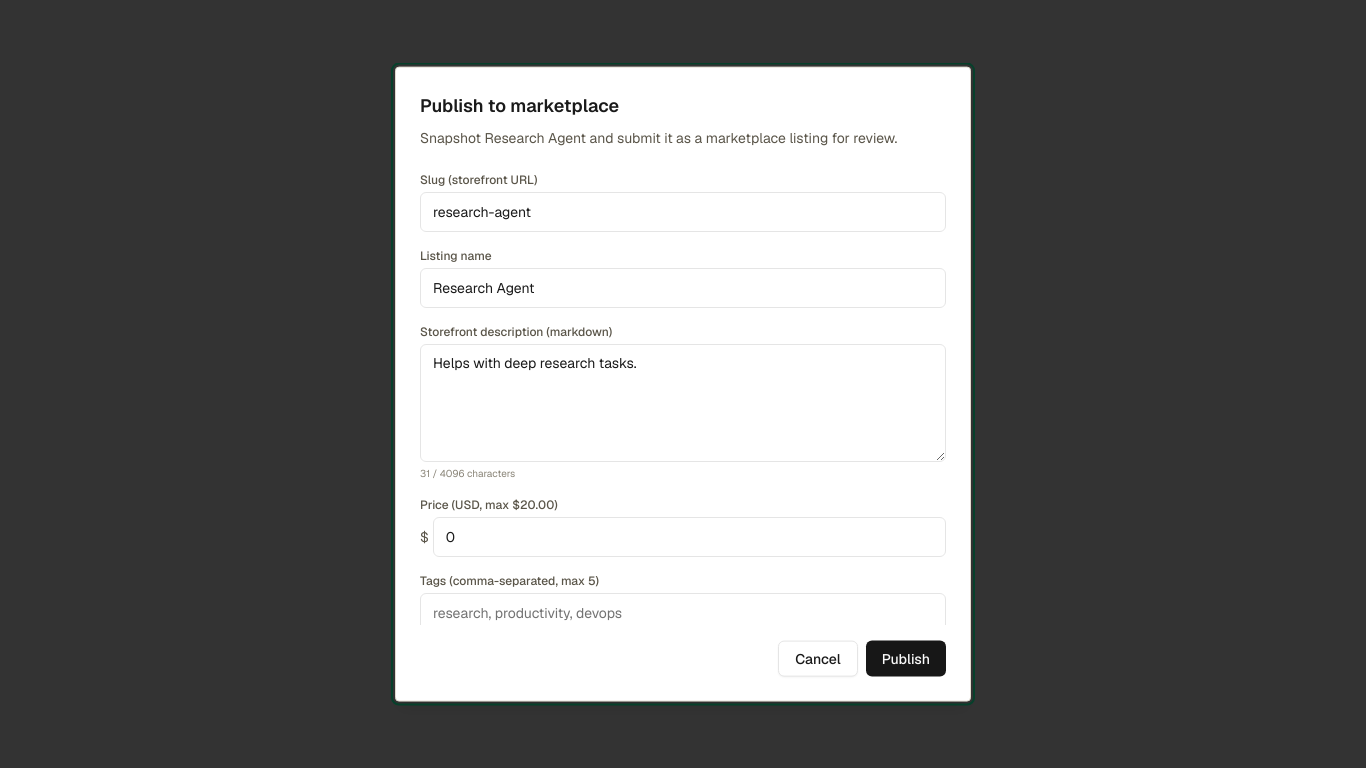
Scenario: PublishAgentModal — submit flow › happy path: create + artifact + submit shows success state
This screenshot has width=1366, height=768.
Check: the field labelled "Slug (storefront URL)" is shown, box [420, 192, 946, 232]
Click the button "Publish": coordinates (906, 658) [866, 640, 946, 676]
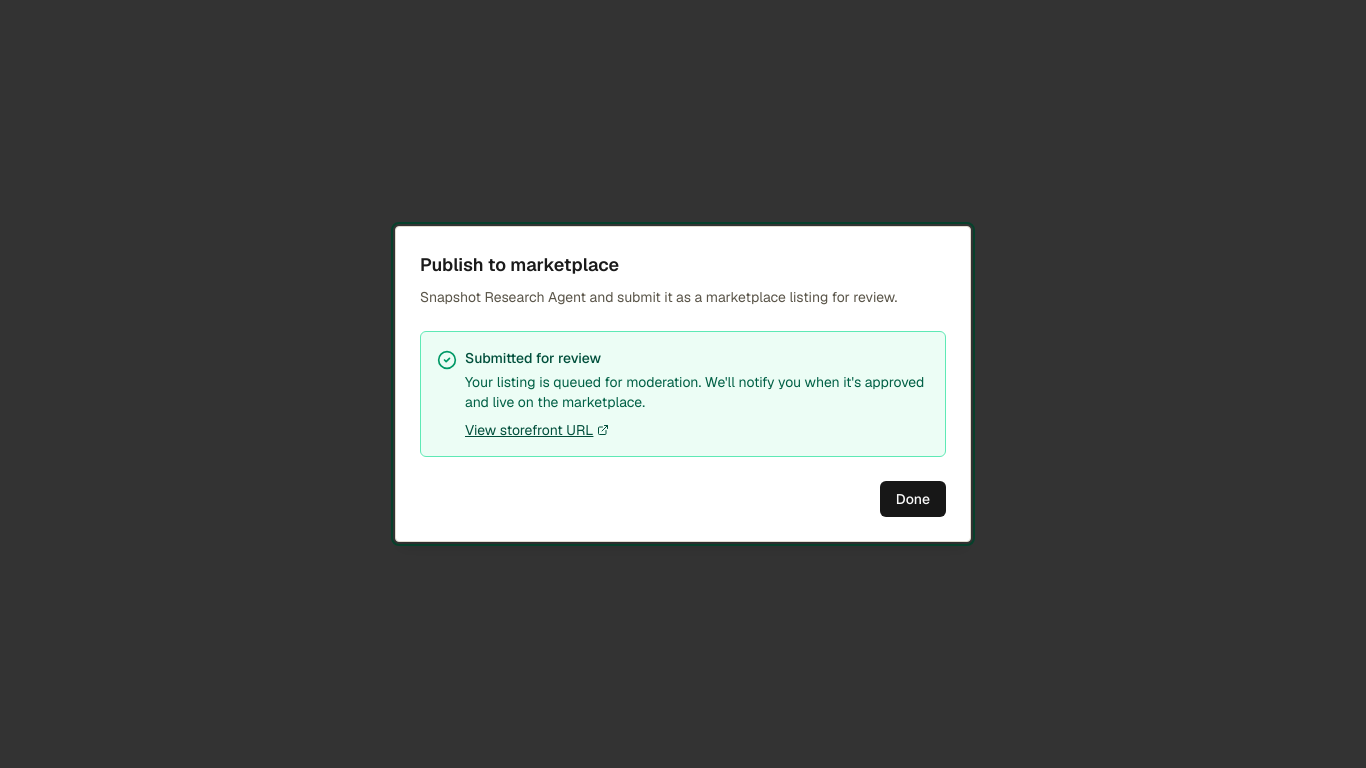
Check: the text "Submitted for review" is shown, box [465, 349, 601, 367]
